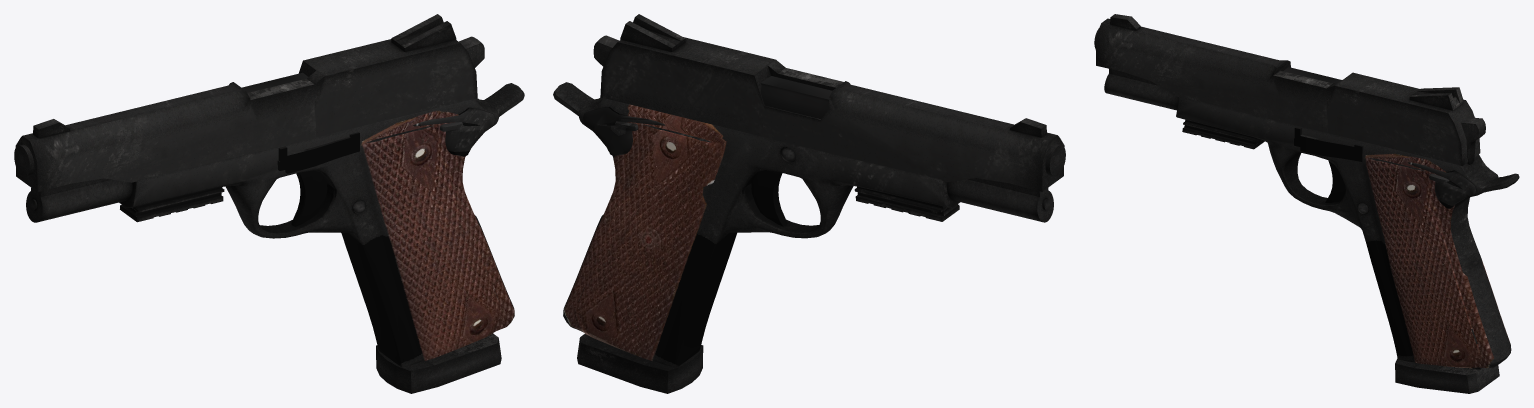
File: com16_item.gltf
3 renders of one model, left to right at view 1: azimuth 30°, elevation 25°; view 2: azimuth 150°, elevation 25°; view 3: azimuth 330°, elevation 25°, orthographic. The views are drawn at different scales.
Visible parts, largest first — view 1: 1911, 1911.001, 1911.003; view 2: 1911, 1911.001; view 3: 1911, 1911.001, 1911.003.
Part boxes in pixels (bbox=[...]): 1911: bbox=[14, 14, 524, 367]; 1911.001: bbox=[376, 333, 501, 393]; 1911.003: bbox=[277, 132, 359, 173]; 1911: bbox=[553, 14, 1065, 367]; 1911.001: bbox=[577, 334, 703, 393]; 1911: bbox=[1094, 14, 1519, 368]; 1911.001: bbox=[1395, 358, 1499, 393]; 1911.003: bbox=[1294, 126, 1363, 161].
Bounding box in the file's own units: 0.7871 × 0.5263 × 0.096.
Materials: 2 (2 with a texture image).
